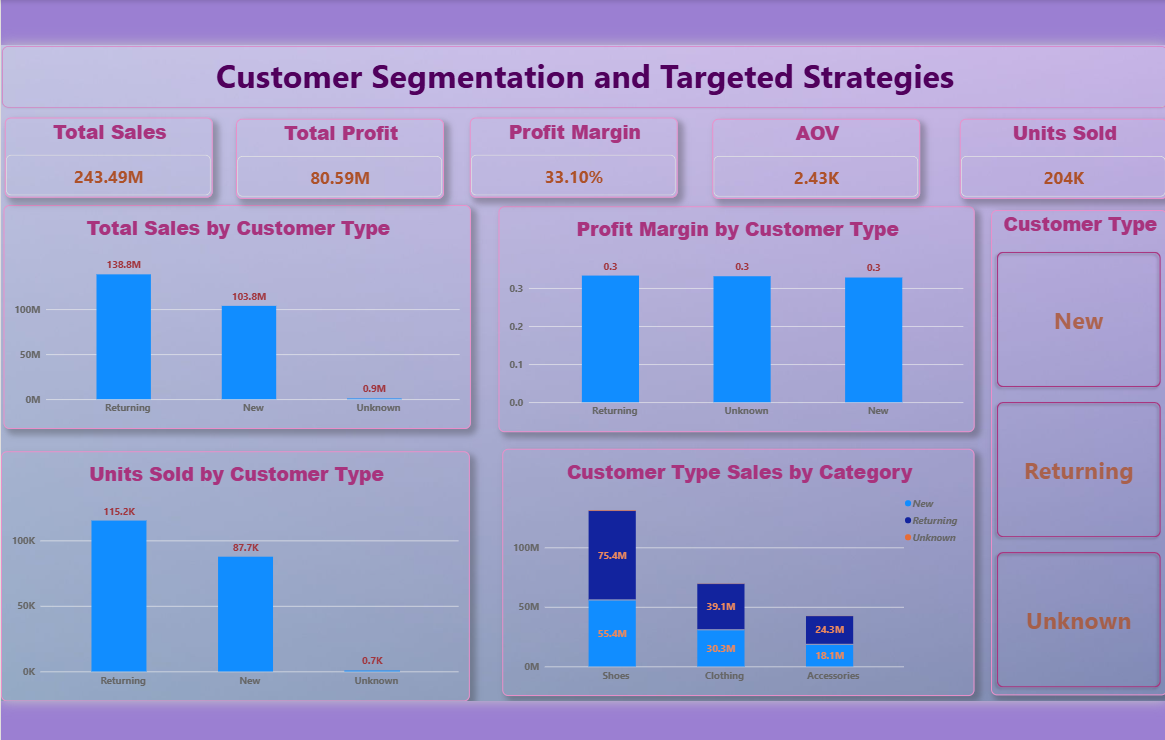

The page's visual inventory and layout, read from the dashboard file:
{"tool":"powerbi","page":{"name":"Page 2","canvas":[1920,1080],"ordinal":0},"visuals":[{"type":"clusteredColumnChart","title":"Total Sales by Customer Type","fields":{"Category":["fashionwave_sales.CustomerType"],"Y":["fashionwave_sales.Total Sales"]},"box":[4.1,264.3,769.8,368.9],"z":0},{"type":"clusteredColumnChart","title":"Profit Margin by Customer Type","fields":{"Category":["fashionwave_sales.CustomerType"],"Y":["fashionwave_sales.Profit Margin %"]},"box":[819.6,265.1,784.2,371.7],"z":1000},{"type":"clusteredColumnChart","title":"Units Sold by Customer Type","fields":{"Category":["fashionwave_sales.CustomerType"],"Y":["fashionwave_sales.Units Sold"]},"box":[0,669,771.9,411.7],"z":2000},{"type":"columnChart","title":"Customer Type Sales by Category","fields":{"Category":["fashionwave_sales.Category"],"Series":["fashionwave_sales.CustomerType"],"Y":["fashionwave_sales.Total Sales"]},"box":[825.4,664.8,777.6,407.5],"z":3000},{"type":"textbox","title":"Customer Segmentation and Targeted Strategies","box":[2.1,2.1,1918.4,100.9],"z":4000},{"type":"cardVisual","title":"Total Sales","fields":{"Data":["fashionwave_sales.Total Sales"]},"box":[6.2,119.4,342.5,131.7],"z":5000},{"type":"cardVisual","title":"Total Profit","fields":{"Data":["fashionwave_sales.Total Profit"]},"box":[386.6,121.9,342.5,131.7],"z":6000},{"type":"cardVisual","title":"Profit Margin","fields":{"Data":["fashionwave_sales.Profit Margin %"]},"box":[771,119.8,342.5,131.7],"z":7000},{"type":"cardVisual","title":"AOV","fields":{"Data":["fashionwave_sales.AOV"]},"box":[1170.8,122.3,342.5,131.7],"z":8000},{"type":"cardVisual","title":"Units Sold","fields":{"Data":["fashionwave_sales.Units Sold"]},"box":[1578.3,121.4,342.5,131.7],"z":9000},{"type":"advancedSlicerVisual","title":"Customer Type","fields":{"Label":["fashionwave_sales.Profit Margin %"],"Values":["fashionwave_sales.CustomerType"]},"box":[1630.2,271.3,290.2,799],"z":9002}]}

Visuals, with their boxes on the page's 1920x1080 design canvas (x1, y1, x2, y2). These are canvas units, not pixel positions in the 1165x740 screenshot, which may show the page scaled, cropped or inside an application window:
"Total Sales by Customer Type" clusteredColumnChart: region(4, 264, 774, 633)
"Profit Margin by Customer Type" clusteredColumnChart: region(820, 265, 1604, 637)
"Units Sold by Customer Type" clusteredColumnChart: region(0, 669, 772, 1081)
"Customer Type Sales by Category" columnChart: region(825, 665, 1603, 1072)
"Customer Segmentation and Targeted Strategies" textbox: region(2, 2, 1920, 103)
"Total Sales" cardVisual: region(6, 119, 349, 251)
"Total Profit" cardVisual: region(387, 122, 729, 254)
"Profit Margin" cardVisual: region(771, 120, 1114, 252)
"AOV" cardVisual: region(1171, 122, 1513, 254)
"Units Sold" cardVisual: region(1578, 121, 1921, 253)
"Customer Type" advancedSlicerVisual: region(1630, 271, 1920, 1070)
